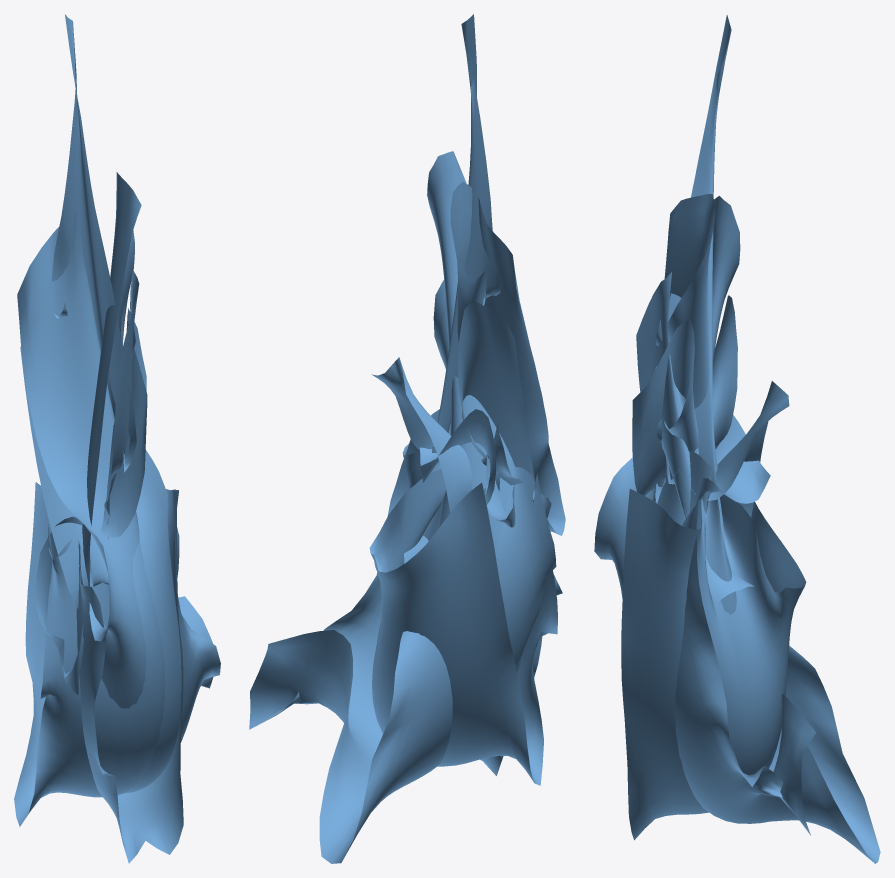
Rendered from smoke.glb.
3 renders of one model, left to right at view 1: azimuth 30°, elevation 25°; view 2: azimuth 150°, elevation 25°; view 3: azimuth 270°, elevation 25°, orthographic. The views are drawn at different scales.
Parts seen in each view (by area): view 1: Object_7.002; view 2: Object_7.002; view 3: Object_7.002.
Part boxes in pixels (bbox=[...]): Object_7.002: bbox=[14, 14, 220, 863]; Object_7.002: bbox=[249, 14, 565, 863]; Object_7.002: bbox=[594, 15, 880, 863].
Size of the model in its own units: 0.0132 by 0.0423 by 0.0135.
Materials: 1 (1 with a texture image).
